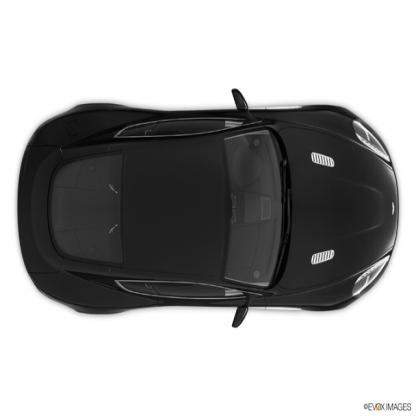Vehicle: (14, 84, 404, 335)
